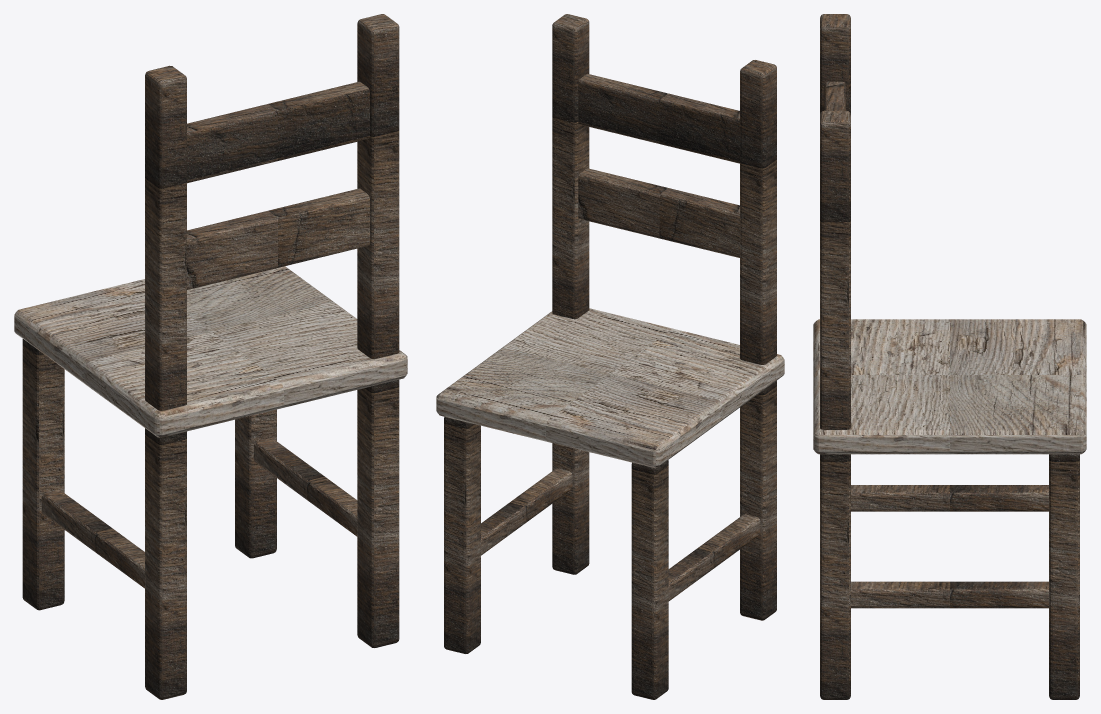
File: chair-v02.glb
3 views of the same model, side by side, from view 1: azimuth 30°, elevation 25°; view 2: azimuth 150°, elevation 25°; view 3: azimuth 270°, elevation 25° (orthographic). The views are drawn at different scales.
Visible parts, largest first — view 1: chair; view 2: chair; view 3: chair.
Part boxes in pixels (x1,y1,x2,y2): chair: [14, 14, 407, 699]; chair: [436, 14, 784, 699]; chair: [813, 14, 1086, 699].
Bounding box in the file's own units: 0.62 × 1.45 × 0.62.
2 materials, 2 textured.
